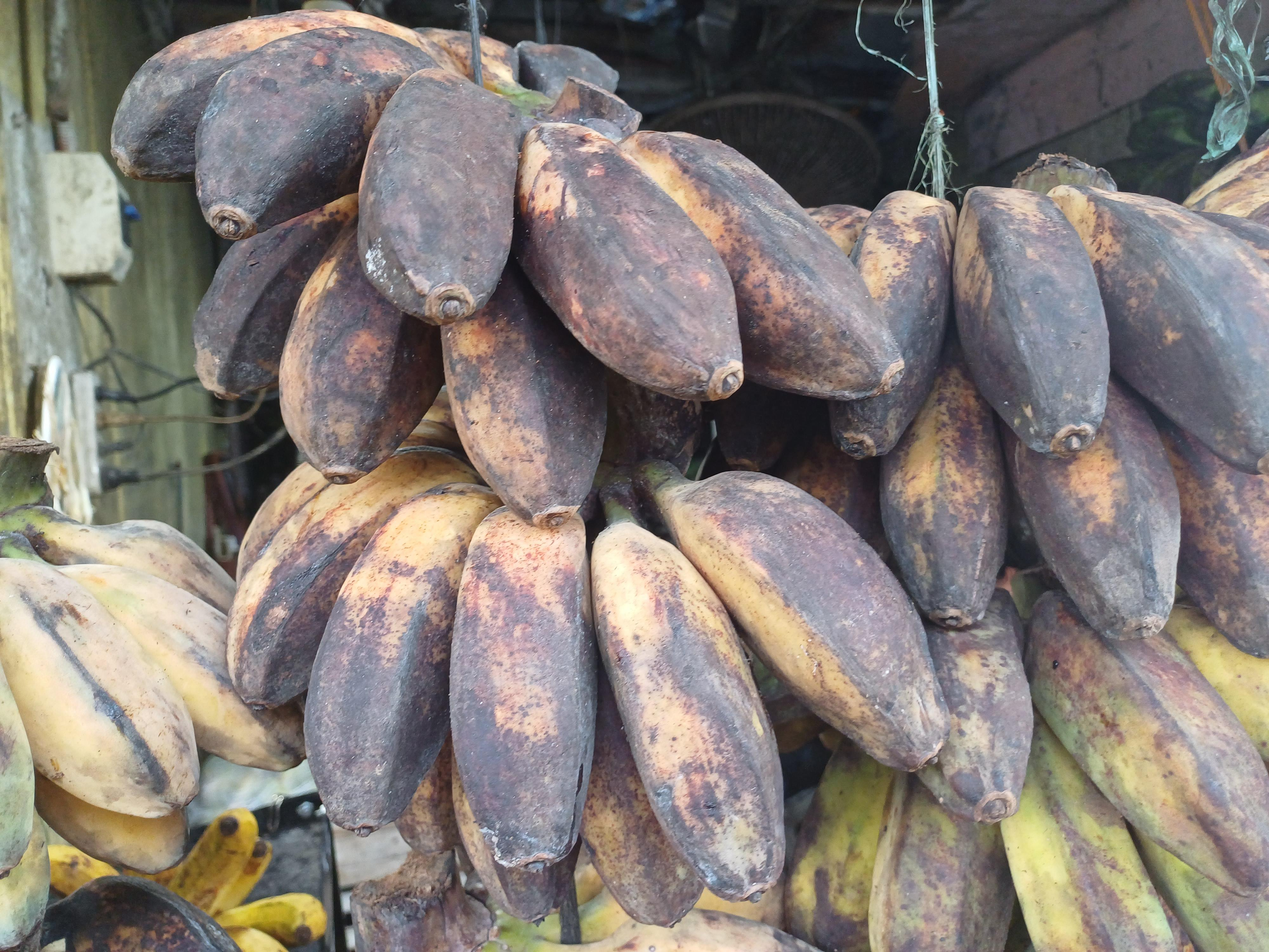overripe: (111, 12, 904, 530), (227, 396, 947, 925), (718, 186, 1269, 656)
ripe: (0, 522, 305, 948)
underripe: (785, 593, 1269, 952)
